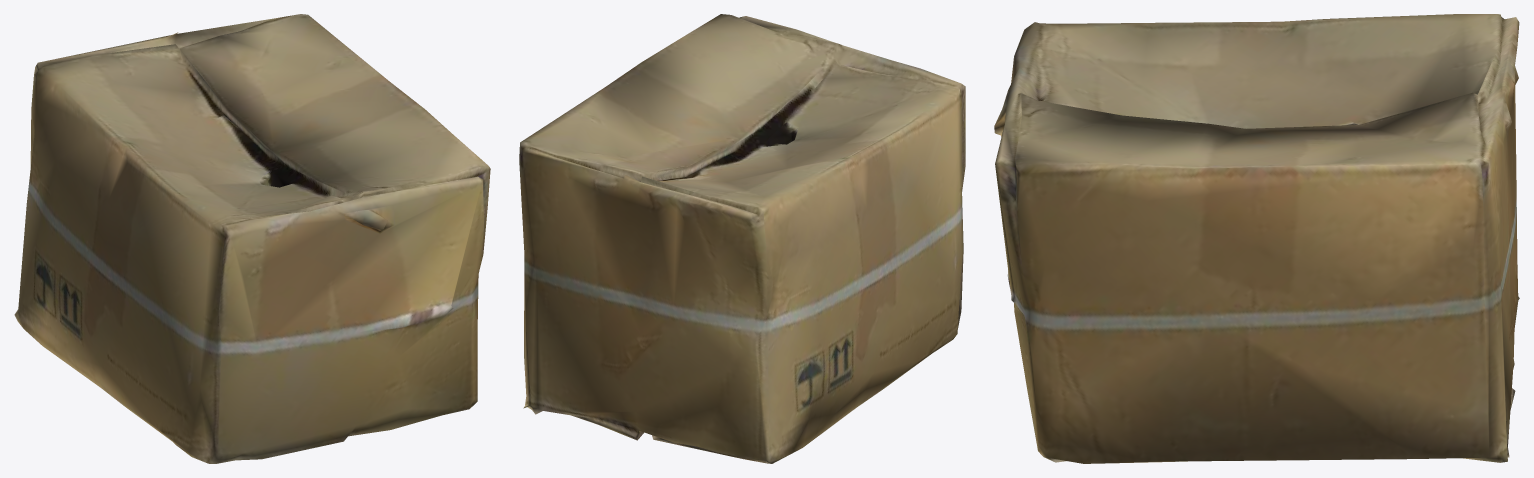
Rendered from cardboard.glb.
3 renders of one model, left to right at view 1: azimuth 30°, elevation 25°; view 2: azimuth 150°, elevation 25°; view 3: azimuth 270°, elevation 25°, orthographic. The views are drawn at different scales.
Parts seen in each view (by area): view 1: cardboard_box_01; view 2: cardboard_box_01; view 3: cardboard_box_01.
Boxes of the visible parts, bbox=[...] form: cardboard_box_01: bbox=[14, 14, 490, 463]; cardboard_box_01: bbox=[519, 14, 965, 463]; cardboard_box_01: bbox=[994, 14, 1519, 463].
Bounding box in the file's own units: 0.3835 × 0.3389 × 0.5132.
1 material, 1 textured.
